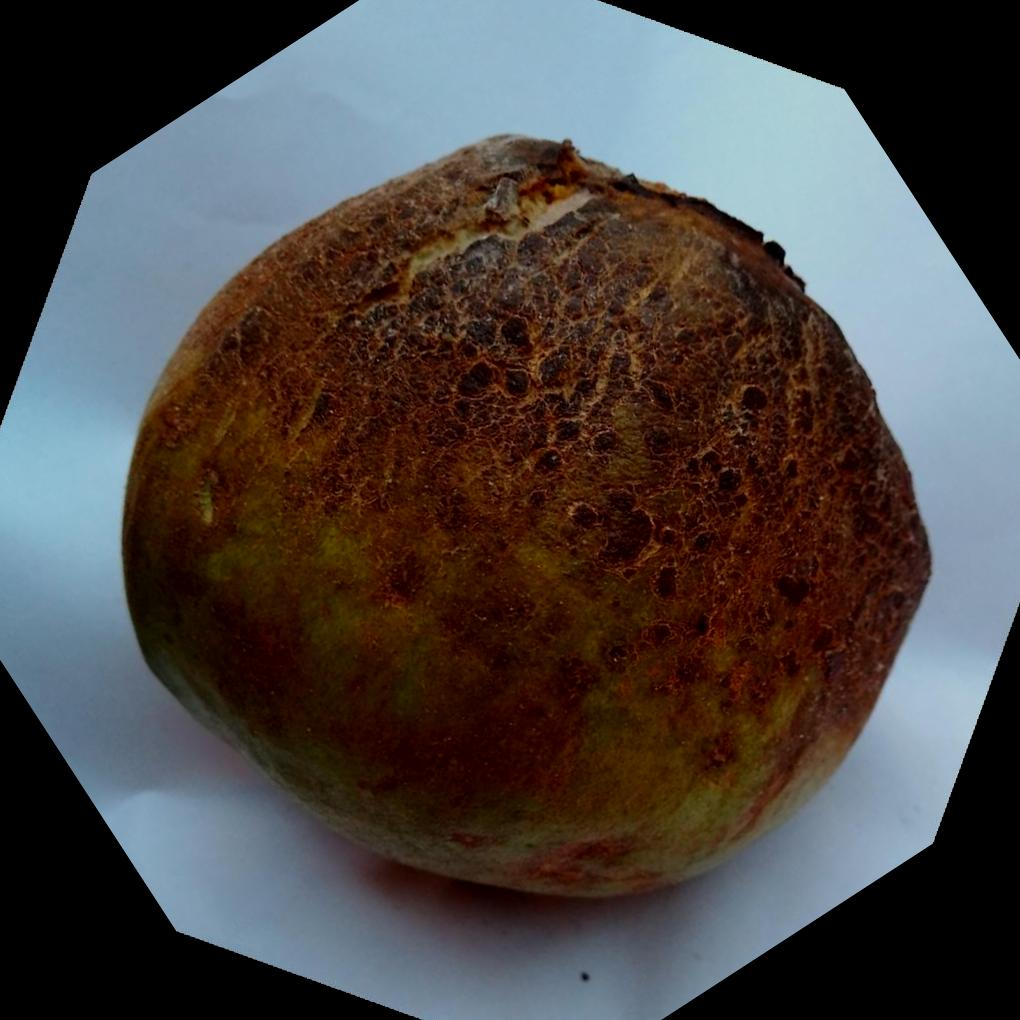FreshOrange: (114, 132, 931, 904)
